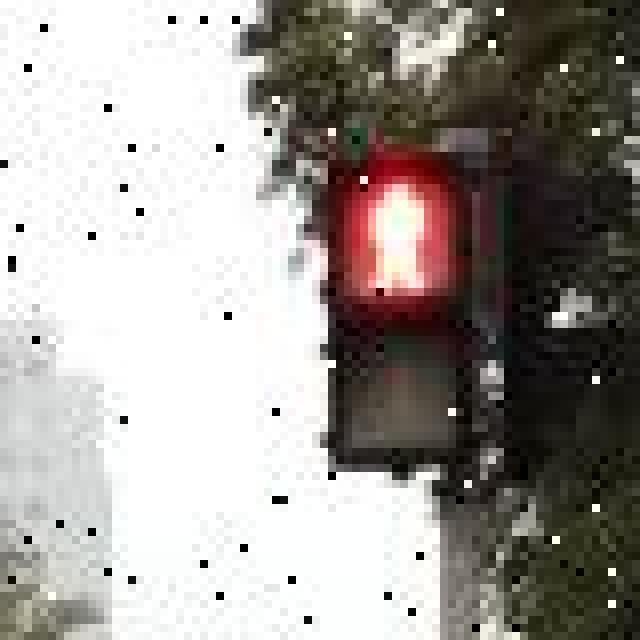redlight: (312, 136, 488, 472)
